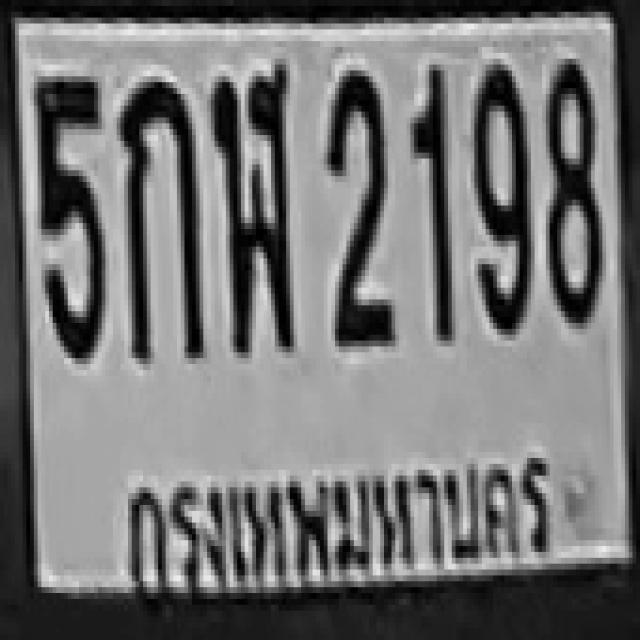0: (470, 61, 530, 332)
1: (408, 64, 450, 340)
10GorGai: (118, 76, 202, 358)
2: (324, 62, 395, 344)
5: (32, 71, 104, 358)
51LorChula: (209, 62, 292, 349)
8: (542, 59, 599, 323)
9: (470, 59, 530, 329)
Bangkok: (106, 423, 566, 594)
